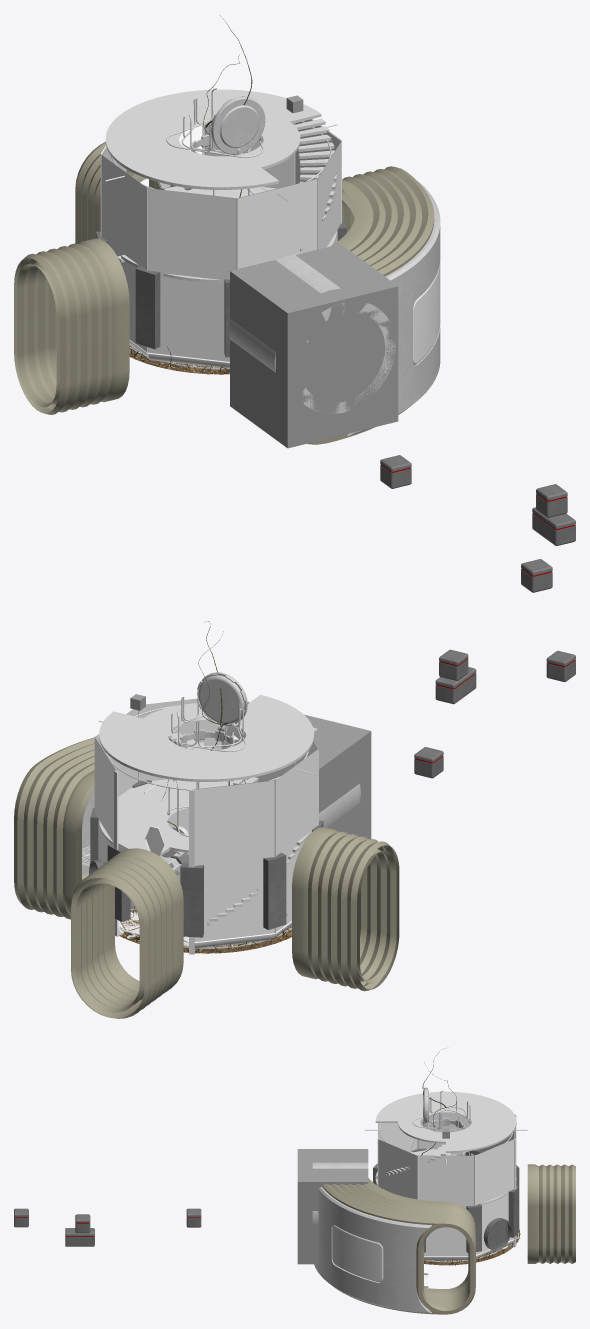
File: rooms_group.fbx
3 renders of one model, top to bottom at view 1: azimuth 30°, elevation 25°; view 2: azimuth 150°, elevation 25°; view 3: azimuth 270°, elevation 25°, orthographic. The views are drawn at different scales.
Visible parts, largest first — view 1: room_03_seals, pCylinder73, shell, platform_2, room_03_walkway, room_03_boxes, room_05_helper1, room_04_scrubbers, room_04_hatch, room_03_outer_window, platform_1; view 2: room_03_seals, pCylinder73, platform_2, shell, platform_1, room_04_scrubbers, room_03_boxes, room_04_hatch, pCylinder66, floor, room_05_helper1, room_03_walkway; view 3: room_03_seals, pCylinder73, room_03_walkway, platform_2, shell, room_03_outer_window, room_03_boxes, room_04_scrubbers, room_04_power_platform, room_05_helper1, floor.
Boxes of the visible parts, bbox=[...] form: room_03_seals: bbox=[14, 142, 434, 444]; pCylinder73: bbox=[100, 119, 341, 368]; shell: bbox=[230, 244, 398, 448]; platform_2: bbox=[105, 89, 336, 255]; room_03_walkway: bbox=[347, 182, 440, 435]; room_03_boxes: bbox=[380, 455, 575, 592]; room_05_helper1: bbox=[229, 255, 395, 413]; room_04_scrubbers: bbox=[96, 218, 346, 357]; room_04_hatch: bbox=[211, 96, 265, 155]; room_03_outer_window: bbox=[413, 262, 440, 364]; platform_1: bbox=[117, 186, 336, 282]; room_03_seals: bbox=[14, 737, 399, 1018]; pCylinder73: bbox=[94, 697, 318, 948]; platform_2: bbox=[99, 694, 314, 784]; shell: bbox=[304, 714, 371, 839]; platform_1: bbox=[99, 779, 310, 925]; room_04_scrubbers: bbox=[90, 780, 323, 937]; room_03_boxes: bbox=[414, 649, 575, 778]; room_04_hatch: bbox=[197, 672, 247, 731]; pCylinder66: bbox=[114, 770, 195, 954]; floor: bbox=[119, 909, 291, 953]; room_05_helper1: bbox=[313, 727, 360, 827]; room_03_walkway: bbox=[82, 792, 94, 874]; room_03_seals: bbox=[322, 1164, 575, 1314]; pCylinder73: bbox=[377, 1112, 514, 1260]; room_03_walkway: bbox=[314, 1187, 431, 1313]; platform_2: bbox=[375, 1091, 516, 1179]; shell: bbox=[297, 1149, 368, 1264]; room_03_outer_window: bbox=[332, 1225, 383, 1282]; room_03_boxes: bbox=[14, 1208, 201, 1246]; room_04_scrubbers: bbox=[373, 1148, 519, 1252]; room_04_power_platform: bbox=[483, 1218, 511, 1250]; room_05_helper1: bbox=[312, 1162, 368, 1223]; floor: bbox=[424, 1229, 520, 1265].
Size of what is drawn, in the model's own units: 17.67 by 15.93 by 37.88.
13 materials, 3 textured.
